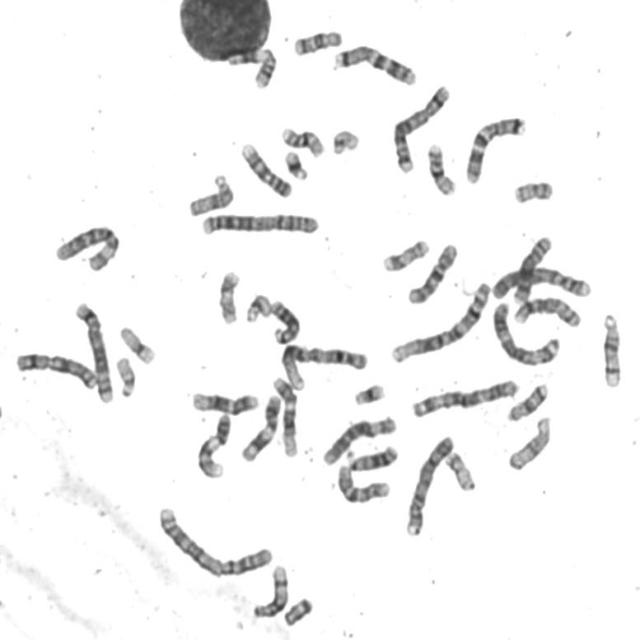A1: (386, 277, 494, 365), (276, 338, 370, 391)
A2: (154, 501, 277, 579), (196, 207, 322, 237)
A3: (408, 372, 522, 420), (488, 296, 562, 367)
B4: (402, 429, 456, 538), (488, 261, 594, 301)
B5: (389, 80, 452, 176), (71, 296, 116, 405)
C10: (404, 237, 460, 306), (333, 460, 392, 506)
C11: (238, 390, 284, 464), (225, 42, 279, 90)
C12: (268, 372, 302, 458), (188, 386, 261, 416)
C6: (319, 410, 399, 467), (50, 219, 122, 273)
C7: (461, 110, 529, 185), (330, 38, 420, 88)
C8: (510, 231, 556, 305), (511, 292, 584, 330)
C9: (237, 138, 295, 200), (194, 408, 233, 479)
D13: (343, 440, 400, 472), (268, 295, 302, 345)
D14: (250, 560, 290, 620), (599, 308, 625, 390)
D15: (504, 411, 554, 473), (184, 170, 237, 218)
E16: (423, 138, 459, 198), (278, 120, 327, 158)
E17: (379, 234, 432, 274), (215, 264, 242, 326)
E18: (505, 378, 551, 423), (290, 25, 344, 57)
F19: (116, 321, 158, 366), (243, 288, 274, 326)
F20: (444, 449, 479, 494), (510, 174, 556, 205)
G21: (350, 378, 388, 407), (281, 146, 310, 182)
G22: (112, 352, 138, 399), (328, 124, 362, 157)
X: (12, 347, 100, 391)
Y: (280, 593, 315, 628)
